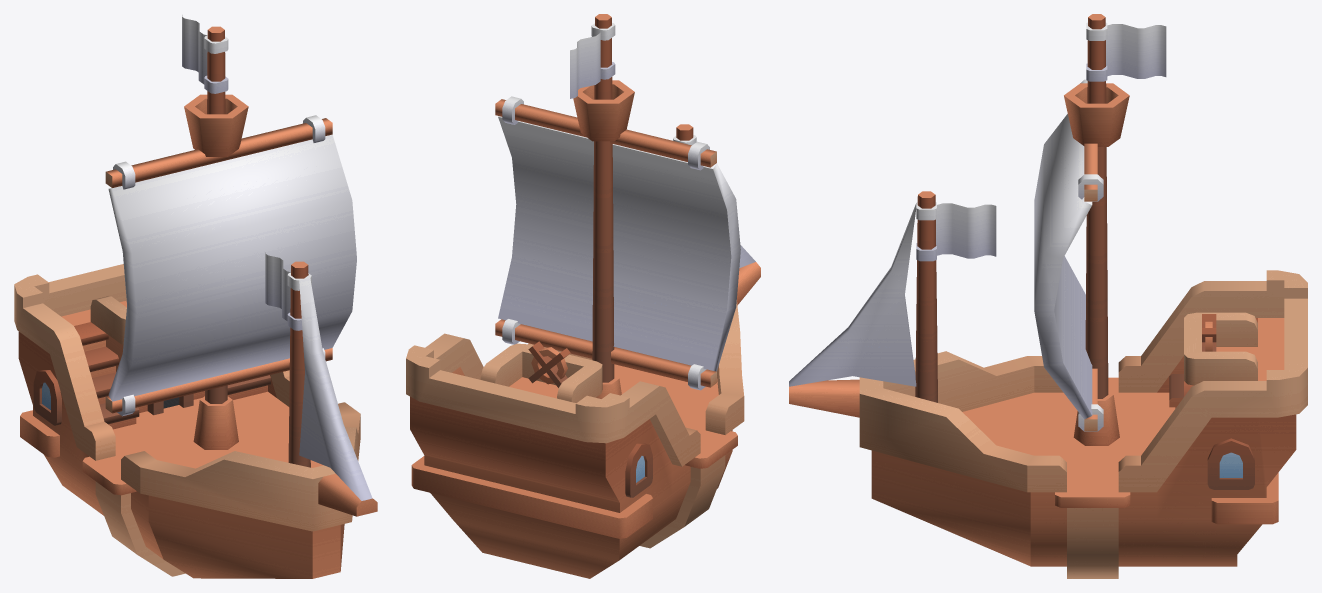
Rendered from ship-small.glb.
The picture shows the model from 3 angles, left to right: view 1: azimuth 30°, elevation 25°; view 2: azimuth 150°, elevation 25°; view 3: azimuth 270°, elevation 25°; orthographic projection. The views are drawn at different scales.
Parts seen in each view (by area): view 1: ship-small, sail-a, flag-b, flag-a; view 2: ship-small, sail-a, flag-b; view 3: ship-small, sail-a, flag-a, flag-b.
Boxes of the visible parts, left/top/right/bottom form: ship-small: left=14, top=26, right=377, bottom=578; sail-a: left=105, top=115, right=356, bottom=416; flag-b: left=182, top=15, right=228, bottom=93; flag-a: left=265, top=252, right=311, bottom=330; ship-small: left=406, top=14, right=760, bottom=578; sail-a: left=495, top=96, right=740, bottom=390; flag-b: left=570, top=23, right=615, bottom=98; ship-small: left=789, top=14, right=1307, bottom=578; sail-a: left=1034, top=79, right=1103, bottom=431; flag-a: left=916, top=202, right=996, bottom=261; flag-b: left=1086, top=22, right=1166, bottom=81.
Bounding box in the file's own units: 4.8 × 9.96 × 8.8.
1 material, 1 textured.
